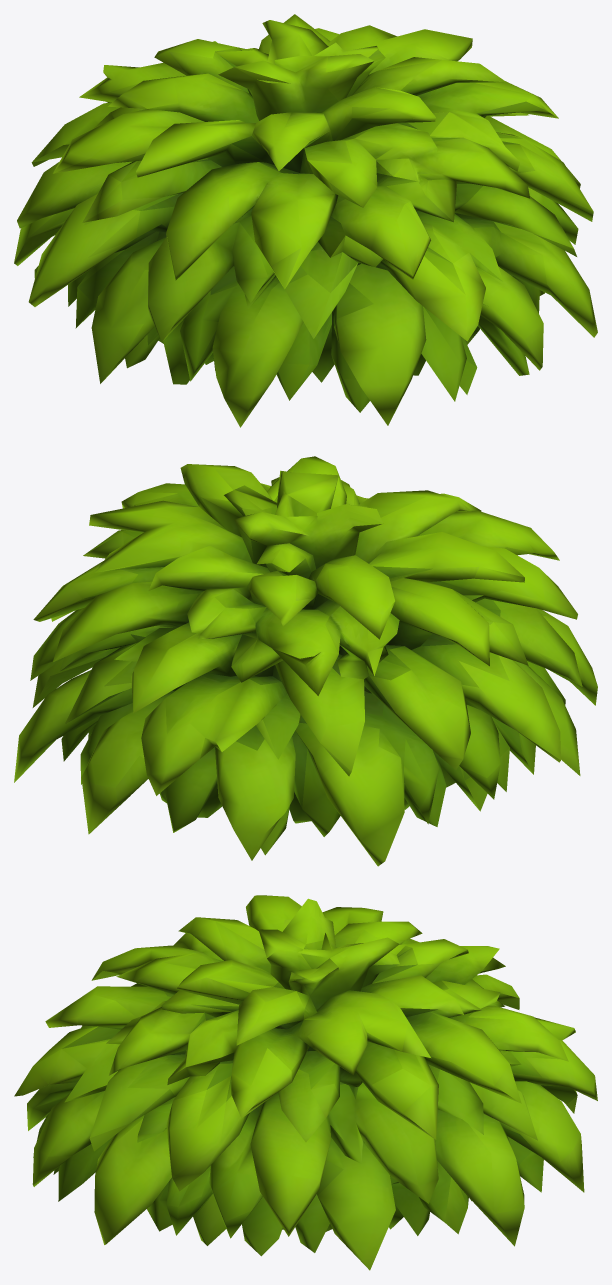
The model's file is hedge_leafy.glb.
The picture shows the model from 3 angles, top to bottom: view 1: azimuth 30°, elevation 25°; view 2: azimuth 150°, elevation 25°; view 3: azimuth 270°, elevation 25°; orthographic projection. The views are drawn at different scales.
Parts seen in each view (by area): view 1: tripo_node_52e8f565-1495-419e-a96a-af83c04e25aa; view 2: tripo_node_52e8f565-1495-419e-a96a-af83c04e25aa; view 3: tripo_node_52e8f565-1495-419e-a96a-af83c04e25aa.
Boxes of the visible parts, x1,y1,x2,y2 form: tripo_node_52e8f565-1495-419e-a96a-af83c04e25aa: (14,14,597,427); tripo_node_52e8f565-1495-419e-a96a-af83c04e25aa: (14,456,597,866); tripo_node_52e8f565-1495-419e-a96a-af83c04e25aa: (14,895,597,1270).
Bounding box in the file's own units: 1.22 × 0.5535 × 1.25.
1 material, 1 textured.
